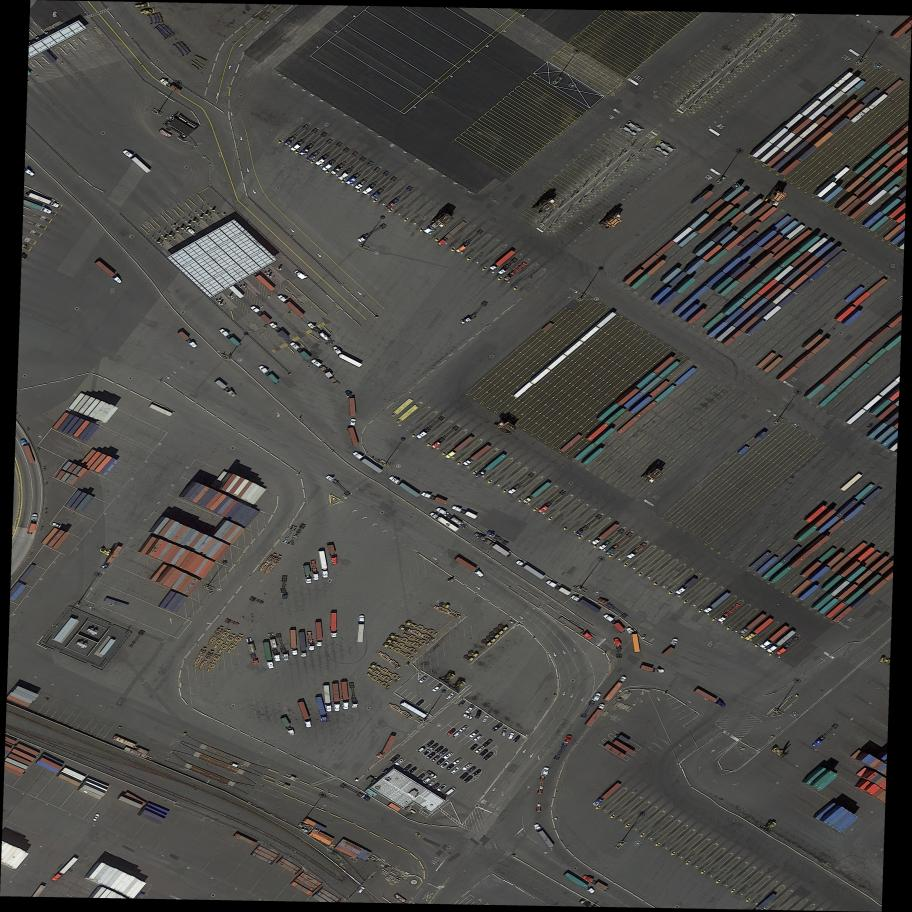large-vehicle: (472, 530, 513, 560), (309, 355, 343, 389), (472, 451, 509, 481), (557, 614, 595, 642), (326, 343, 366, 369), (120, 146, 153, 177), (435, 218, 469, 248), (457, 297, 491, 327), (319, 145, 353, 175), (562, 869, 598, 897), (433, 505, 470, 532), (590, 780, 624, 809), (387, 473, 423, 500), (350, 448, 386, 475), (49, 853, 80, 884), (93, 257, 125, 287), (809, 721, 841, 751), (758, 623, 791, 652), (383, 184, 416, 213), (455, 226, 487, 255), (344, 158, 376, 187), (336, 154, 368, 183), (360, 168, 392, 197), (352, 164, 384, 193), (443, 434, 476, 462), (765, 628, 798, 656), (536, 488, 569, 516), (288, 126, 321, 154), (453, 555, 488, 581), (429, 423, 461, 451), (304, 136, 336, 164), (297, 130, 329, 158), (313, 140, 345, 168), (329, 149, 361, 177), (521, 479, 554, 506), (414, 414, 447, 441), (427, 509, 461, 535), (276, 292, 307, 320), (323, 472, 354, 500), (280, 121, 311, 149), (368, 174, 399, 202), (743, 616, 775, 643), (573, 512, 605, 539), (596, 596, 630, 621), (372, 731, 399, 762), (506, 470, 537, 497), (701, 590, 733, 616), (589, 522, 621, 548), (514, 558, 548, 582), (355, 221, 389, 245), (306, 320, 336, 347), (603, 673, 629, 704), (461, 443, 492, 469), (531, 820, 556, 852), (569, 593, 603, 616), (694, 687, 728, 710), (488, 248, 518, 274), (604, 530, 634, 556), (397, 624, 437, 643), (597, 526, 626, 552), (738, 611, 768, 636), (601, 609, 629, 635), (384, 636, 420, 656), (25, 191, 62, 210), (583, 700, 607, 729), (100, 543, 124, 572), (339, 782, 372, 803), (388, 631, 424, 650), (404, 618, 439, 637), (382, 641, 415, 661), (580, 691, 602, 721), (580, 872, 611, 893), (660, 634, 684, 661), (502, 260, 529, 284), (774, 634, 801, 658), (344, 415, 363, 449), (543, 577, 573, 598), (217, 326, 243, 350), (288, 339, 314, 363), (673, 575, 700, 598), (256, 363, 281, 387), (495, 254, 521, 277), (553, 733, 573, 762), (21, 199, 55, 216), (267, 320, 292, 343), (248, 303, 273, 326), (175, 328, 200, 351), (213, 378, 239, 400), (296, 699, 313, 731), (717, 602, 741, 624), (266, 631, 282, 664), (313, 695, 330, 726), (450, 503, 479, 521), (19, 436, 36, 466), (419, 489, 449, 506), (158, 76, 183, 96), (625, 541, 649, 561), (484, 529, 510, 547), (245, 636, 260, 667), (625, 626, 641, 655), (343, 389, 358, 419), (261, 640, 275, 671), (279, 715, 297, 739), (536, 766, 550, 796), (317, 549, 330, 580), (638, 663, 668, 676), (313, 620, 325, 649), (331, 682, 342, 713), (322, 683, 333, 713), (26, 511, 39, 536), (348, 682, 360, 709), (288, 628, 299, 657), (297, 630, 308, 659), (326, 543, 339, 567), (340, 680, 350, 711), (356, 613, 366, 644), (329, 611, 339, 638), (302, 564, 313, 586), (613, 638, 624, 659), (445, 786, 456, 797)
small-vehicle: (388, 753, 402, 765), (294, 269, 306, 281), (452, 755, 464, 767), (482, 751, 495, 762), (481, 737, 494, 748), (426, 769, 439, 780), (465, 703, 476, 715), (438, 747, 450, 758), (433, 744, 445, 755), (468, 728, 480, 739), (471, 767, 483, 778), (432, 683, 443, 694), (429, 741, 440, 752), (466, 764, 477, 775), (439, 759, 450, 770), (450, 765, 461, 776), (491, 722, 503, 732), (442, 751, 454, 761), (425, 750, 437, 760), (407, 765, 419, 775), (435, 783, 447, 793), (458, 771, 470, 781), (478, 748, 489, 758), (474, 745, 485, 755), (446, 727, 457, 737), (462, 762, 473, 772), (402, 763, 413, 773), (430, 754, 441, 764), (435, 757, 446, 767), (463, 774, 474, 784), (394, 758, 404, 768), (418, 675, 428, 685), (431, 781, 441, 791), (473, 733, 483, 743), (92, 812, 101, 823), (458, 724, 469, 733), (507, 731, 516, 742), (425, 780, 436, 789), (445, 692, 455, 701), (469, 743, 479, 752), (451, 730, 461, 739), (422, 776, 432, 785), (416, 745, 426, 754), (422, 748, 432, 757), (357, 886, 366, 895), (426, 739, 435, 748), (416, 698, 425, 707), (512, 735, 521, 744), (417, 772, 426, 781), (474, 710, 482, 720), (462, 713, 473, 720), (446, 763, 455, 771), (52, 522, 62, 529), (501, 727, 508, 737), (458, 700, 466, 708), (482, 714, 489, 723)
